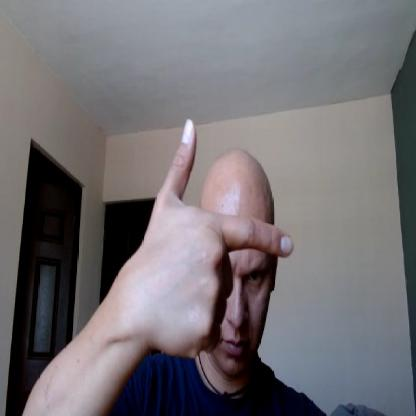G: (141, 119, 294, 352)
